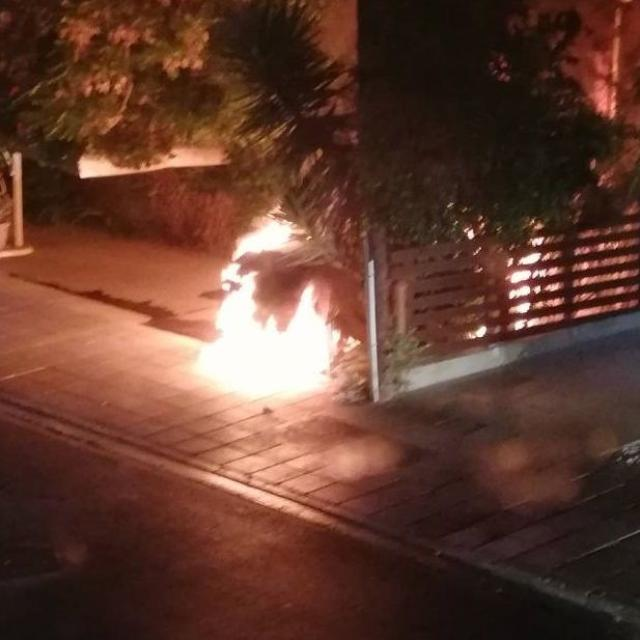Fire: (193, 187, 389, 421)
